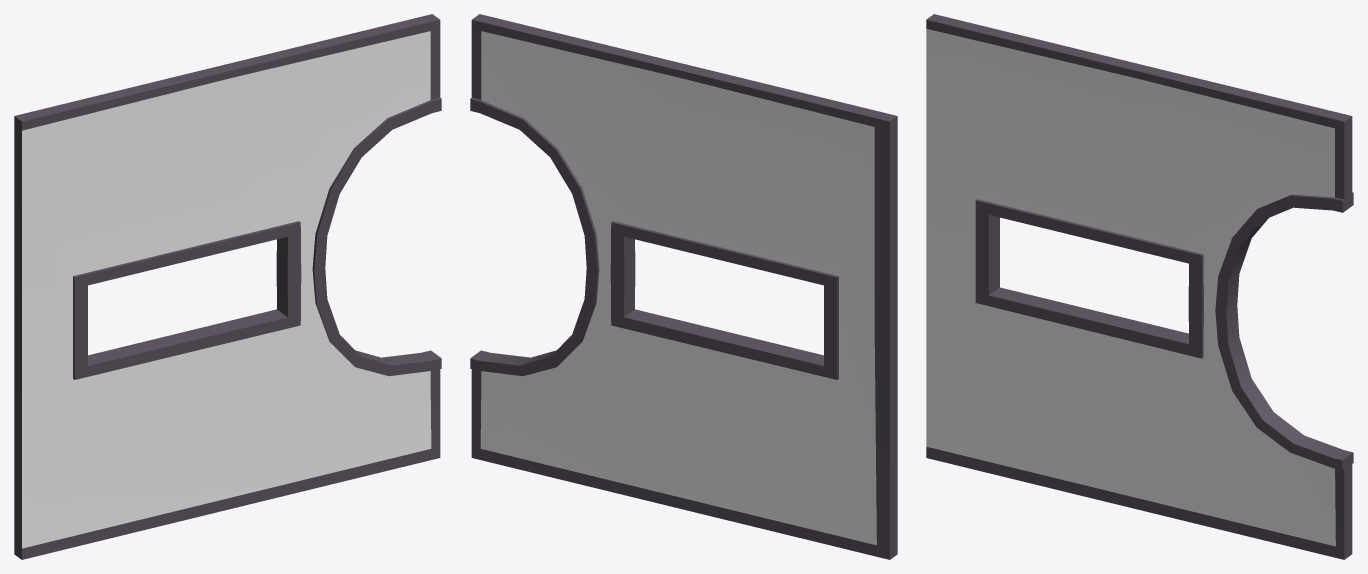
Rendered from obstacle0.fbx.
The picture shows the model from 3 angles, left to right: view 1: azimuth 30°, elevation 25°; view 2: azimuth 150°, elevation 25°; view 3: azimuth 330°, elevation 25°; orthographic projection.
Parts seen in each view (by area): view 1: obstacle.000; view 2: obstacle.000; view 3: obstacle.000.
Part boxes in pixels (left/top/right/bottom): obstacle.000: left=14, top=14, right=441, bottom=559; obstacle.000: left=470, top=14, right=897, bottom=559; obstacle.000: left=926, top=14, right=1353, bottom=559.
Bounding box in the file's own units: 12.82 × 12.84 × 0.584.
